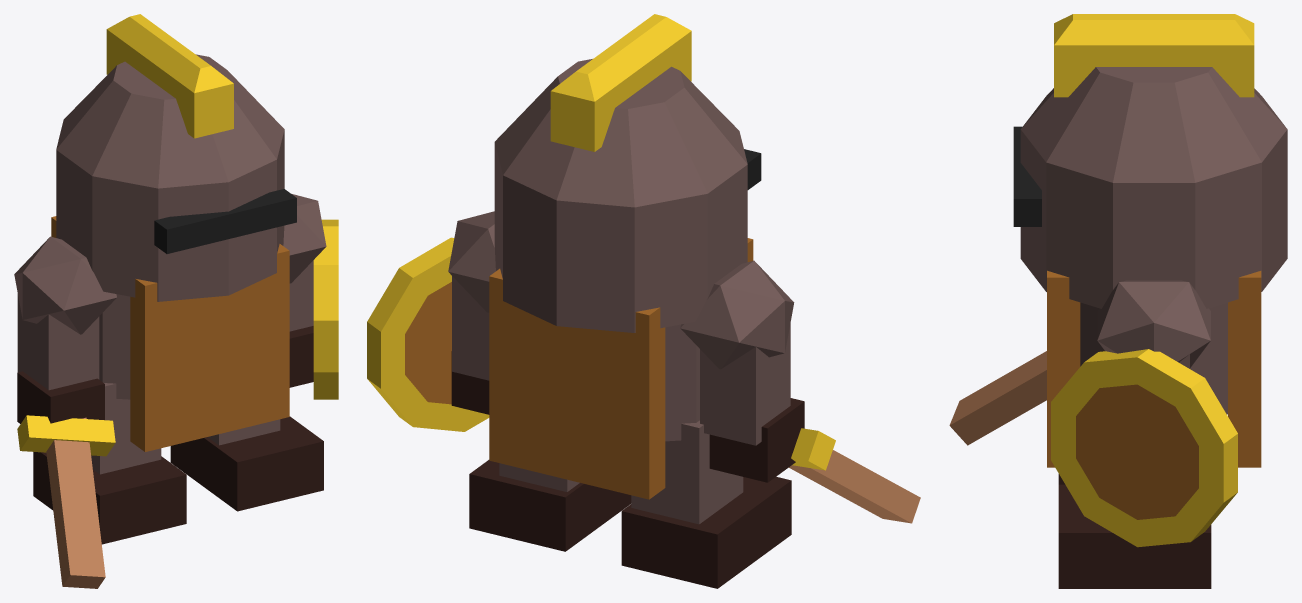
File: knight.glb
3 views of the same model, side by side, from view 1: azimuth 30°, elevation 25°; view 2: azimuth 150°, elevation 25°; view 3: azimuth 270°, elevation 25° (orthographic). The views are drawn at different scales.
Visible parts, largest first — view 1: Knight; view 2: Knight; view 3: Knight.
Part boxes in pixels (x1=…): Knight: x1=14, y1=14, x2=338, y2=588; Knight: x1=367, y1=14, x2=920, y2=588; Knight: x1=949, y1=14, x2=1287, y2=588.
Bounding box in the file's own units: 1.06 × 1.19 × 0.7095.
